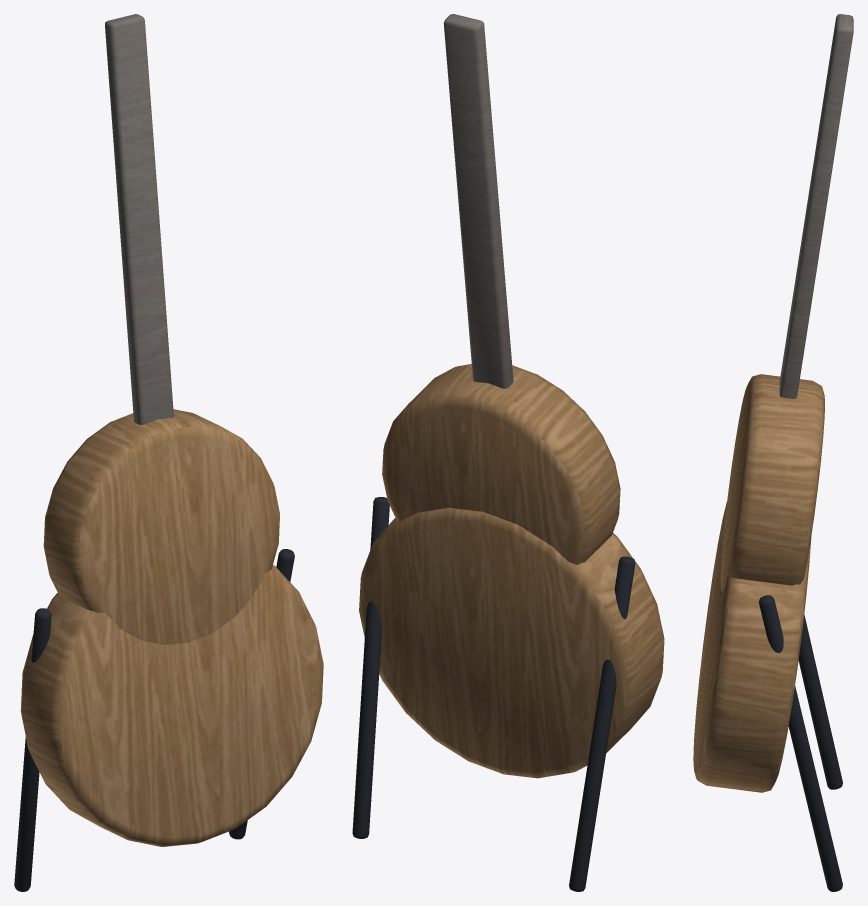
File: guitar-acoustic-a15816e64d10.glb
The picture shows the model from 3 angles, left to right: view 1: azimuth 30°, elevation 25°; view 2: azimuth 150°, elevation 25°; view 3: azimuth 270°, elevation 25°; orthographic projection. The views are drawn at different scales.
Visible parts, largest first — view 1: Mesh_Campus_Oak, Neck_Fretboard, Mesh_Wrought_Iron; view 2: Mesh_Campus_Oak, Neck_Fretboard, Mesh_Wrought_Iron; view 3: Mesh_Campus_Oak, Neck_Fretboard, Mesh_Wrought_Iron.
Boxes of the visible parts, x1,y1,x2,y2 form: Mesh_Campus_Oak: [20, 409, 323, 846]; Neck_Fretboard: [105, 14, 173, 424]; Mesh_Wrought_Iron: [14, 549, 294, 891]; Mesh_Campus_Oak: [359, 364, 664, 778]; Neck_Fretboard: [443, 14, 513, 388]; Mesh_Wrought_Iron: [352, 497, 635, 891]; Mesh_Campus_Oak: [693, 374, 824, 792]; Neck_Fretboard: [779, 14, 853, 398]; Mesh_Wrought_Iron: [759, 595, 842, 891].
Size of the model in its own units: 0.38 by 1.12 by 0.1994.
Materials: 3 (2 with a texture image).
